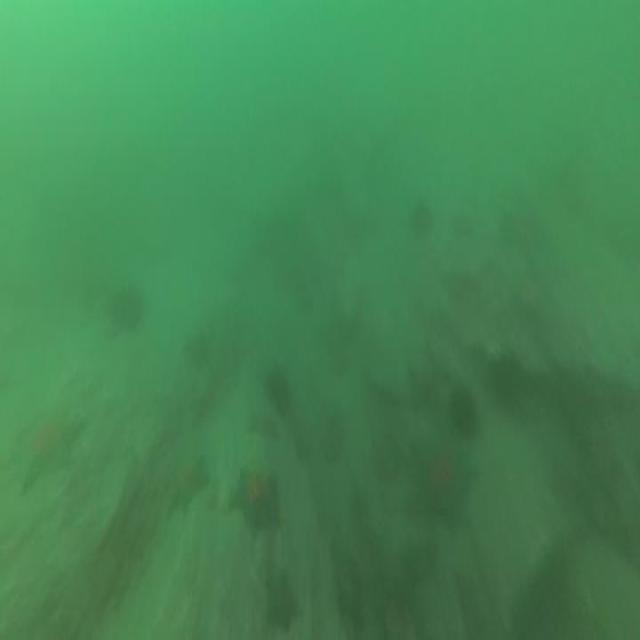echinus: (444, 380, 482, 442), (110, 277, 147, 338), (262, 365, 296, 422), (409, 193, 435, 242)
starfish: (404, 422, 474, 534), (228, 463, 286, 547), (502, 254, 556, 330), (163, 452, 210, 521), (260, 564, 298, 635), (245, 406, 283, 446)
